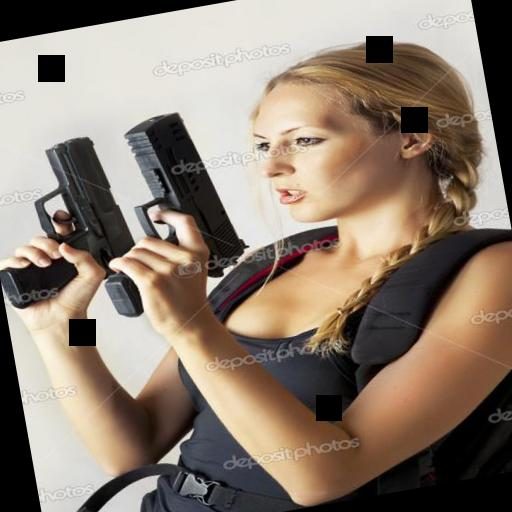Handgun: (74, 100, 257, 322), (0, 126, 150, 310)
